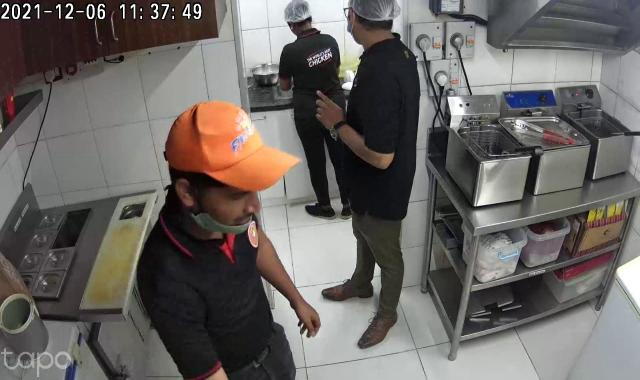hairnet: (345, 0, 407, 32), (279, 0, 314, 25)
no_hairnet: (168, 99, 298, 198)
